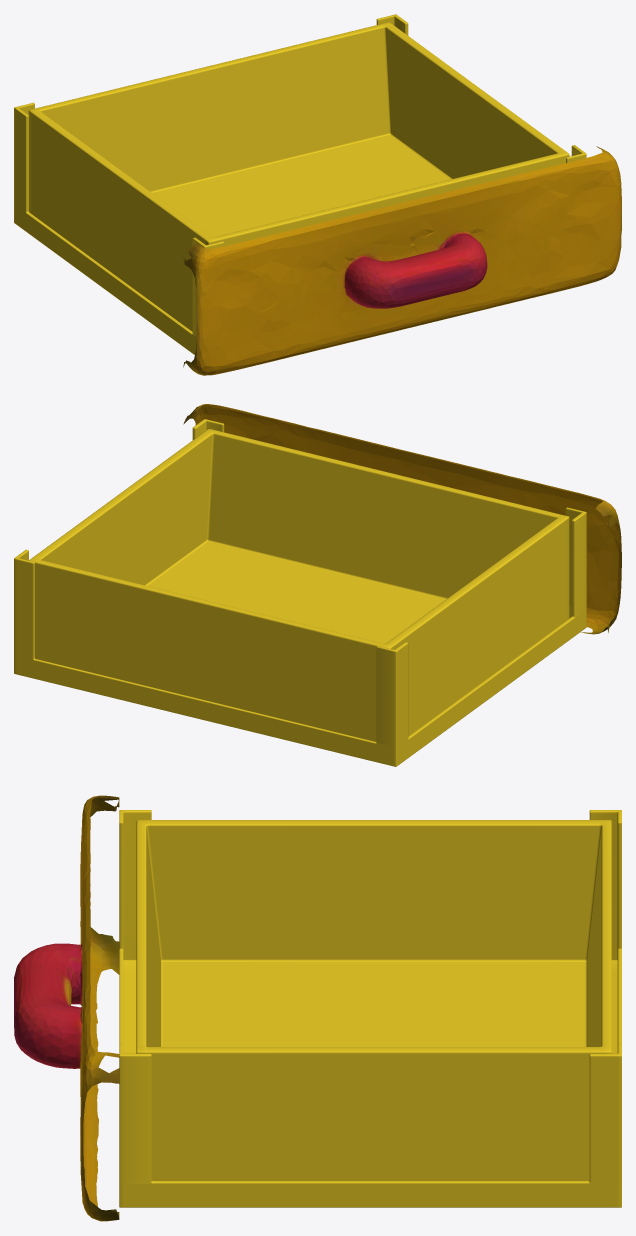
File: drawer_2.glb
3 renders of one model, top to bottom at view 1: azimuth 30°, elevation 25°; view 2: azimuth 150°, elevation 25°; view 3: azimuth 270°, elevation 25°, orthographic. The views are drawn at different scales.
Visible parts, largest first — view 1: prefab_drawer_body_2, source_front_cap_0; view 2: prefab_drawer_body_2, source_front_cap_0; view 3: prefab_drawer_body_2, source_front_cap_0.
Part boxes in pixels (<box>): prefab_drawer_body_2: <box>14,14,586,354</box>; source_front_cap_0: <box>183,146,621,375</box>; prefab_drawer_body_2: <box>14,419,586,766</box>; source_front_cap_0: <box>183,404,621,634</box>; prefab_drawer_body_2: <box>119,810,621,1207</box>; source_front_cap_0: <box>14,795,119,1221</box>.
Size of the model in its own units: 0.2554 by 0.0738 by 0.2401.
2 materials, 1 textured.
